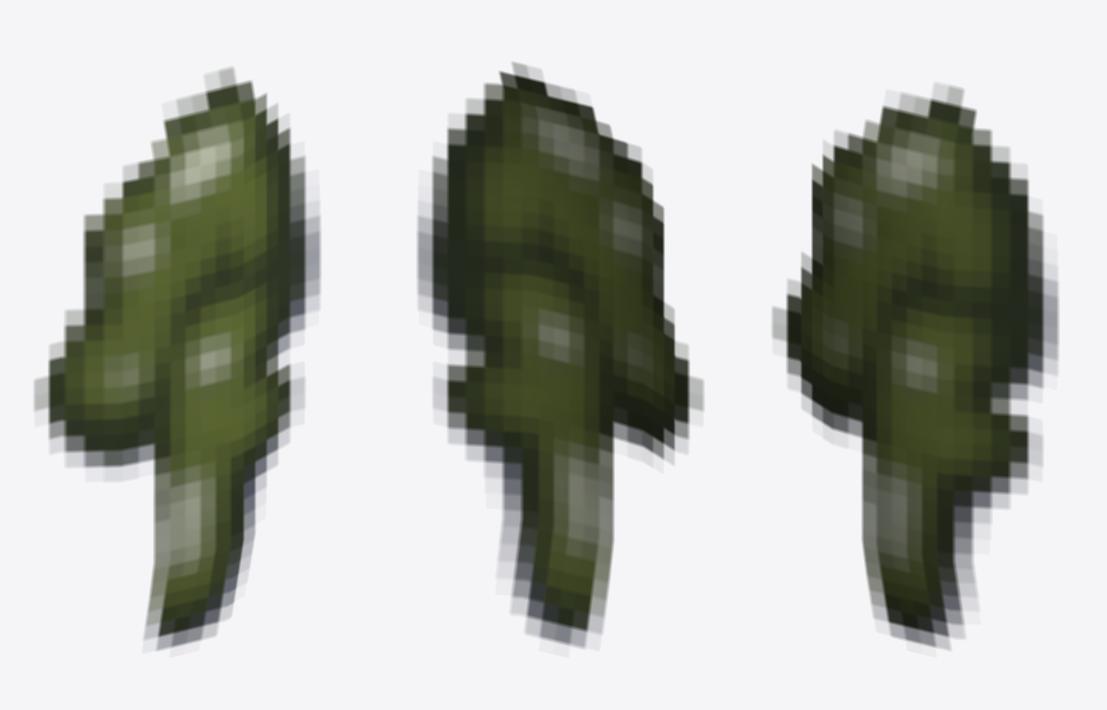
The model's file is Mousse2.glb.
3 renders of one model, left to right at view 1: azimuth 30°, elevation 25°; view 2: azimuth 150°, elevation 25°; view 3: azimuth 330°, elevation 25°, orthographic.
Visible parts, largest first — view 1: Mousse2; view 2: Mousse2; view 3: Mousse2.
Boxes of the visible parts, left/top/right/bottom form: Mousse2: left=34, top=68, right=320, bottom=650; Mousse2: left=417, top=62, right=703, bottom=647; Mousse2: left=772, top=86, right=1058, bottom=648.
Bounding box in the file's own units: 0.7082 × 1.19 × 0.057.
1 material, 1 textured.
